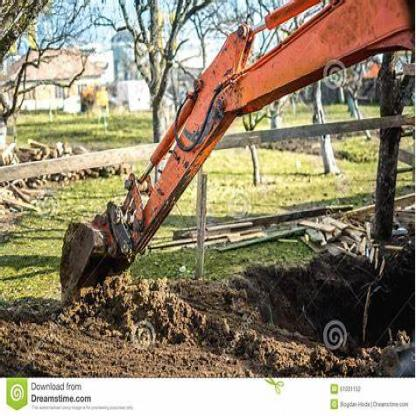excavator: (41, 6, 415, 315)
